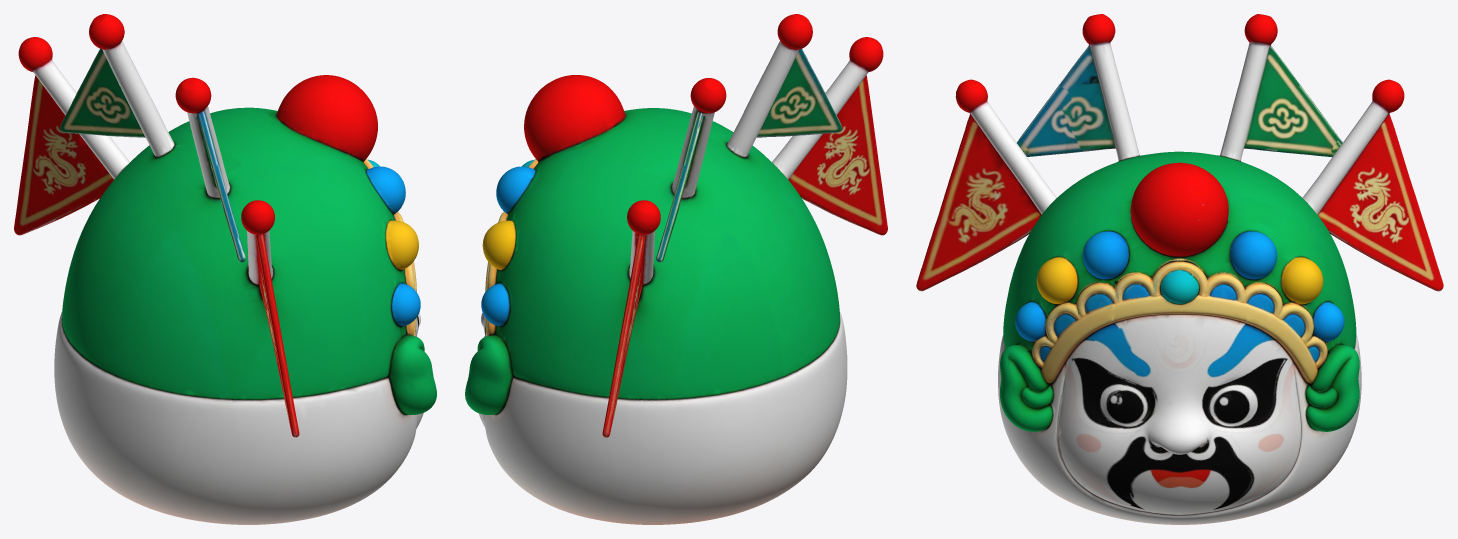
Rendered from 白色变脸.glb.
3 views of the same model, side by side, from view 1: azimuth 30°, elevation 25°; view 2: azimuth 150°, elevation 25°; view 3: azimuth 270°, elevation 25° (orthographic). The views are drawn at different scales.
Parts seen in each view (by area): view 1: mesh; view 2: mesh; view 3: mesh.
Boxes of the visible parts, x1=… form: mesh: x1=14, y1=14, x2=436, y2=524; mesh: x1=465, y1=14, x2=887, y2=524; mesh: x1=916, y1=14, x2=1443, y2=524.
Bounding box in the file's own units: 1.37 × 1.81 × 2.
Materials: 1 (1 with a texture image).
